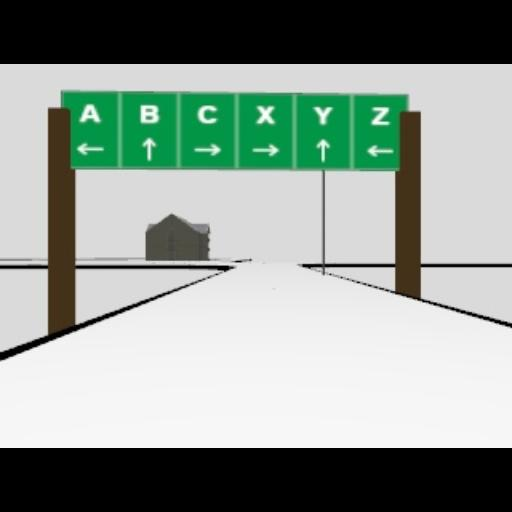A: (79, 102, 101, 124)
B: (140, 104, 158, 124)
C: (196, 104, 218, 124)
Left: (76, 142, 104, 156), (364, 144, 394, 156)
Right: (194, 142, 220, 156), (252, 144, 278, 156)
Straight: (315, 138, 329, 162), (141, 136, 155, 160)
X: (254, 104, 276, 124)
Y: (312, 104, 332, 124)
Z: (370, 106, 390, 124)
